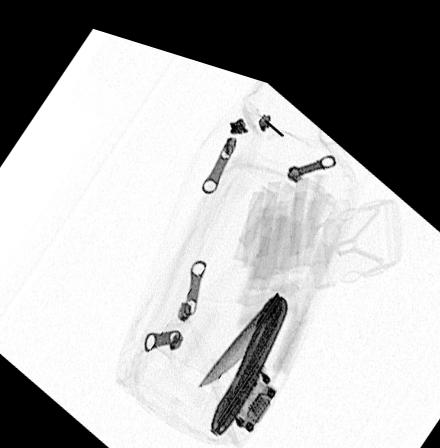Knife: (196, 272, 289, 426)
